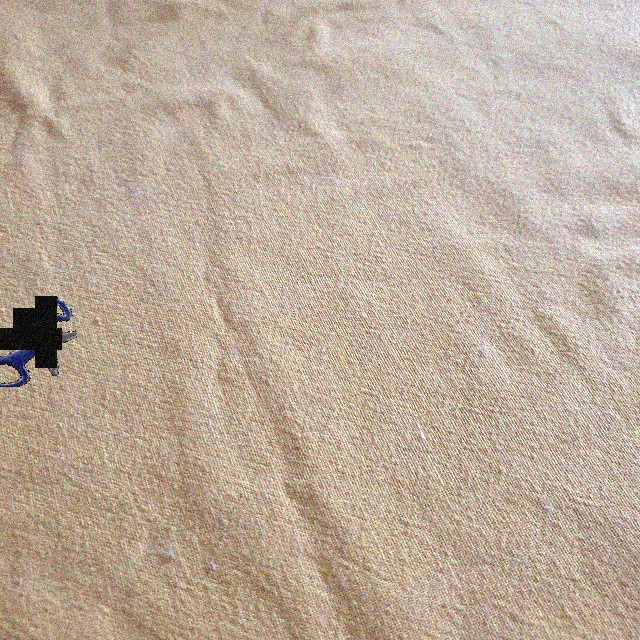scissors: (0, 296, 77, 387)
